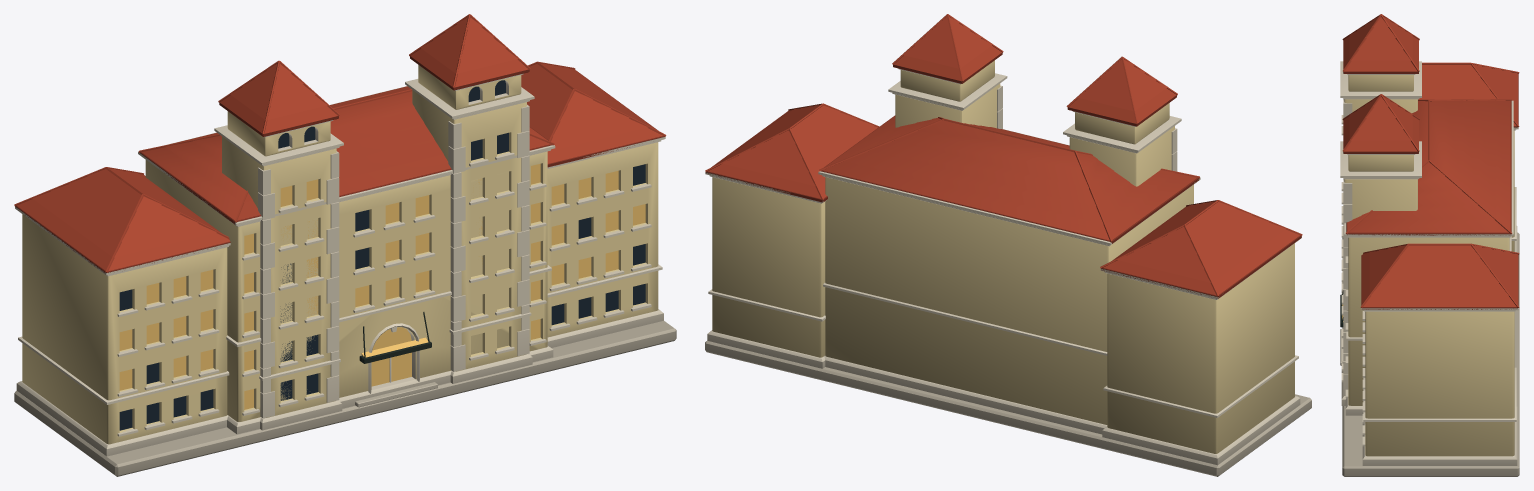
Rendered from arlington.glb.
3 renders of one model, left to right at view 1: azimuth 30°, elevation 25°; view 2: azimuth 150°, elevation 25°; view 3: azimuth 270°, elevation 25°, orthographic. The views are drawn at different scales.
Visible parts, largest first — view 1: arlington; view 2: arlington; view 3: arlington.
Boxes of the visible parts, <box> form: arlington: <box>14,14,676,476</box>; arlington: <box>705,14,1311,476</box>; arlington: <box>1340,14,1519,476</box>.
Size of the model in its own units: 0.056 by 0.0339 by 0.018.
